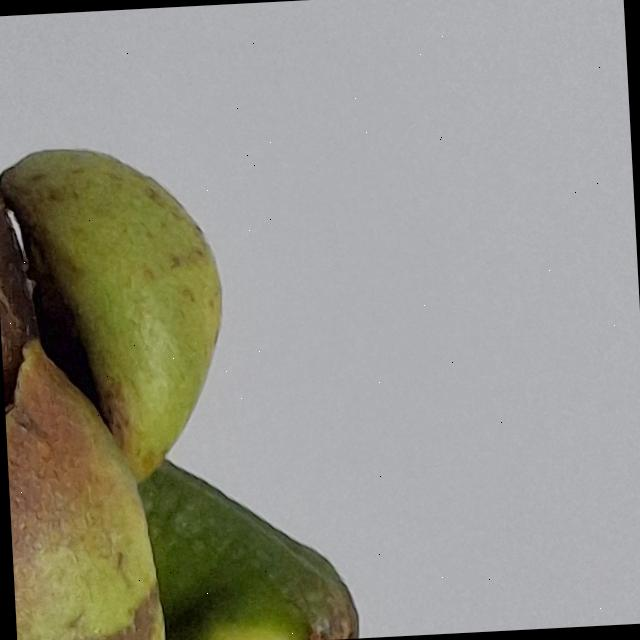mangosteen: (0, 0, 401, 640)
